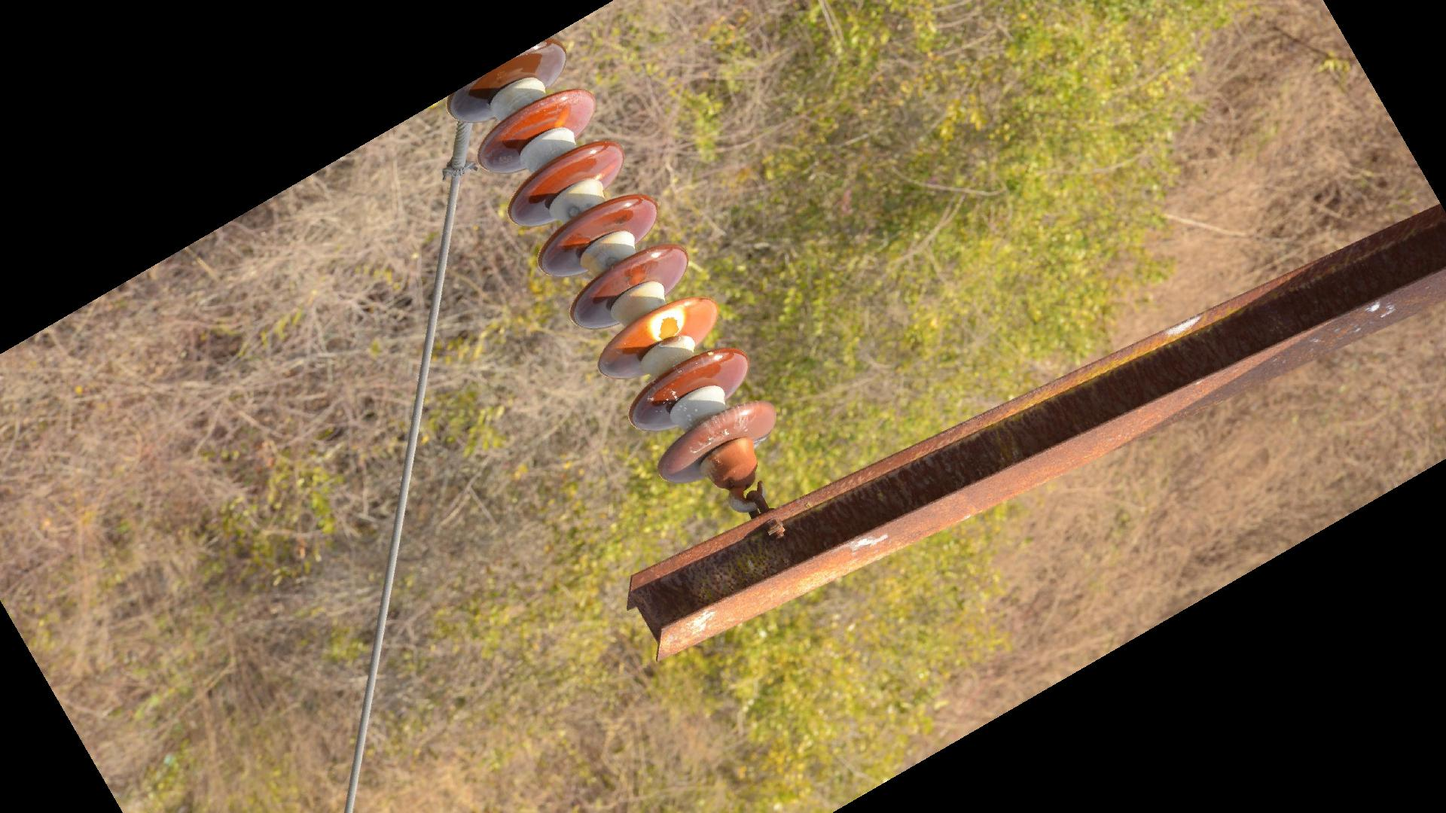insulator: (444, 32, 783, 489)
insulator_flashover: (646, 304, 687, 343), (551, 102, 572, 131)
